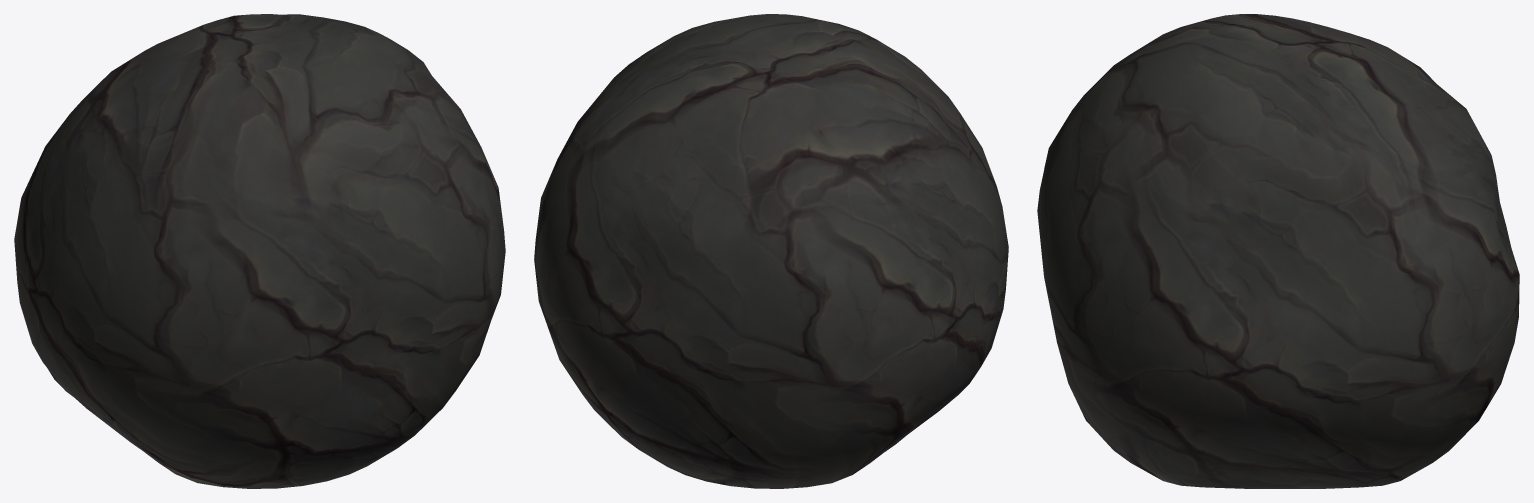
The model's file is StoneSphere.fbx.
The picture shows the model from 3 angles, left to right: view 1: azimuth 30°, elevation 25°; view 2: azimuth 150°, elevation 25°; view 3: azimuth 270°, elevation 25°; orthographic projection. The views are drawn at different scales.
Parts seen in each view (by area): view 1: Sphere; view 2: Sphere; view 3: Sphere.
Part boxes in pixels (bbox=[...]): Sphere: bbox=[14, 14, 505, 488]; Sphere: bbox=[534, 14, 1008, 488]; Sphere: bbox=[1037, 14, 1519, 488].
Size of the model in its own units: 196 by 181 by 188.
Materials: 1 (1 with a texture image).
